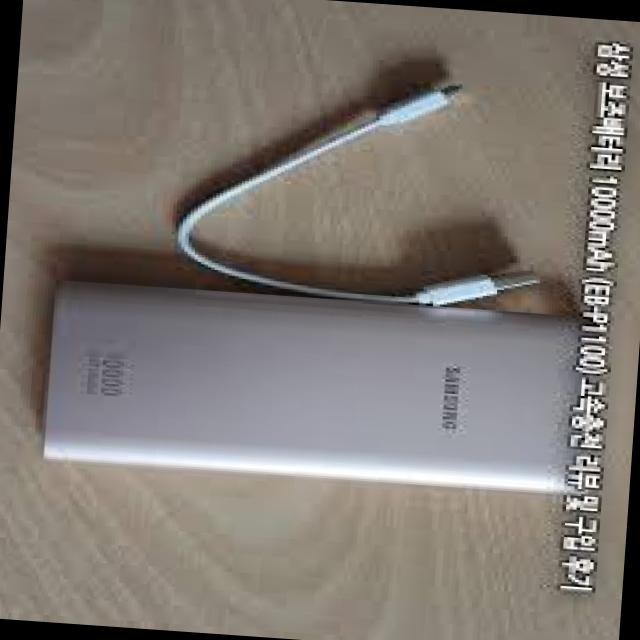portable-charger: (40, 281, 595, 494)
